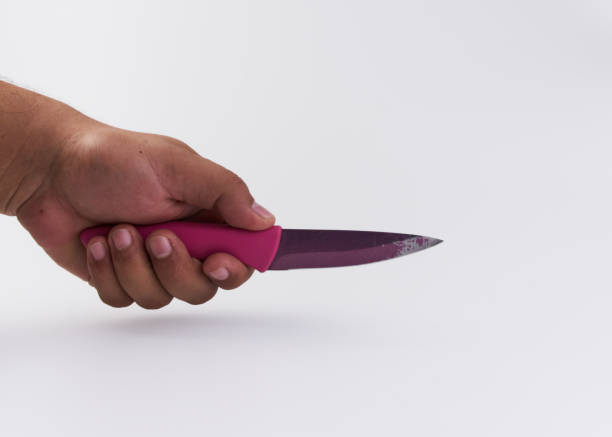blood: (267, 228, 432, 270)
knife: (75, 219, 445, 273)
